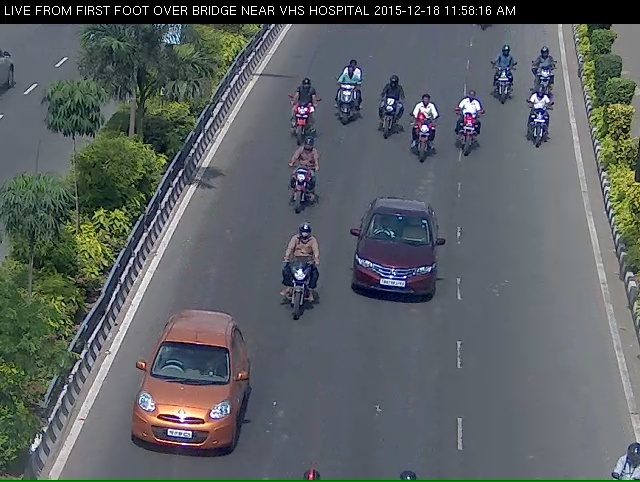Car: (118, 347, 237, 477), (349, 203, 442, 329)
Person: (278, 245, 315, 343), (371, 80, 403, 157), (409, 105, 441, 176), (450, 106, 484, 165), (522, 96, 553, 157), (328, 69, 358, 132), (277, 158, 309, 217), (530, 58, 567, 107), (278, 88, 307, 149), (484, 50, 513, 105)
